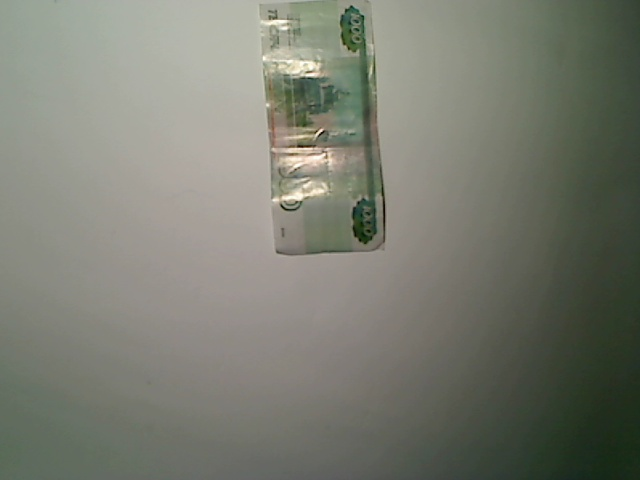banknotes: (257, 1, 387, 256)
